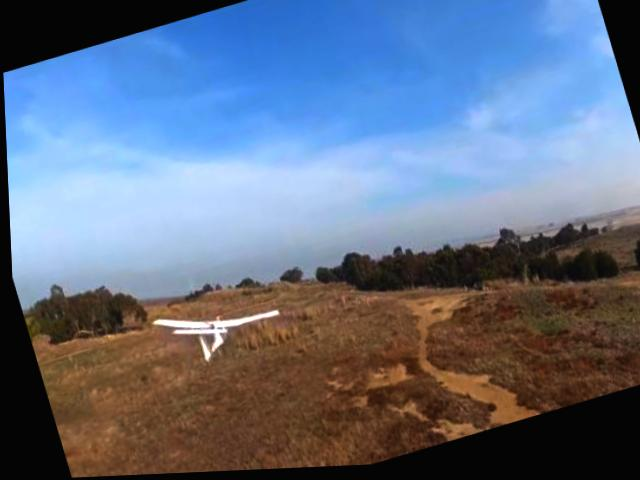uav: (138, 274, 293, 388)
